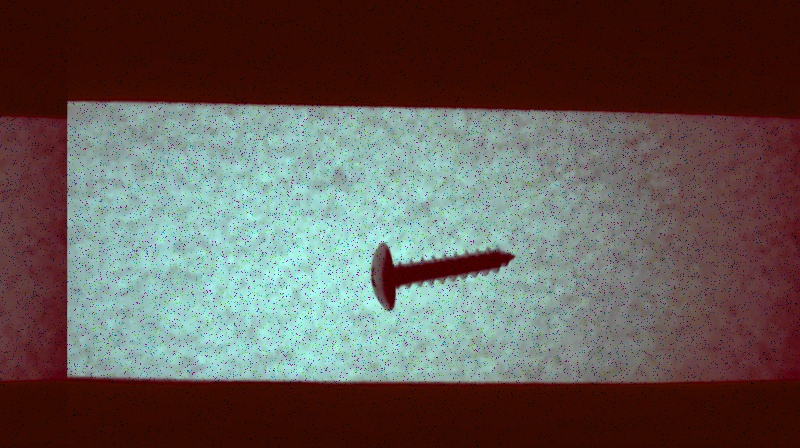S003: (366, 242, 517, 313)
